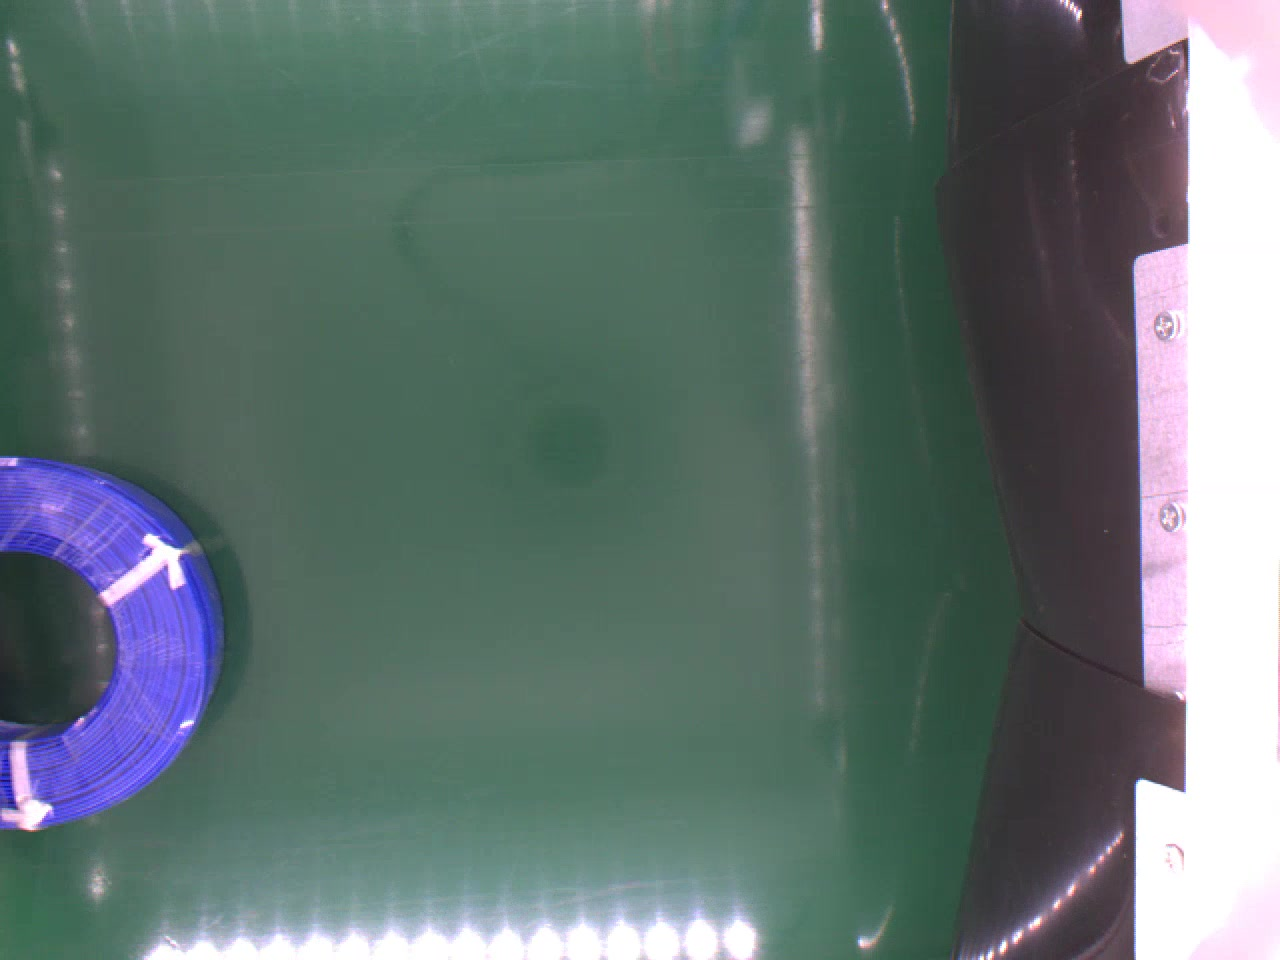blue: (0, 449, 225, 839)
